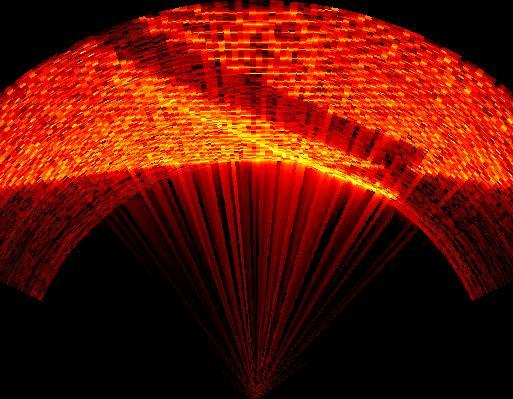pipe: (94, 20, 428, 182)
